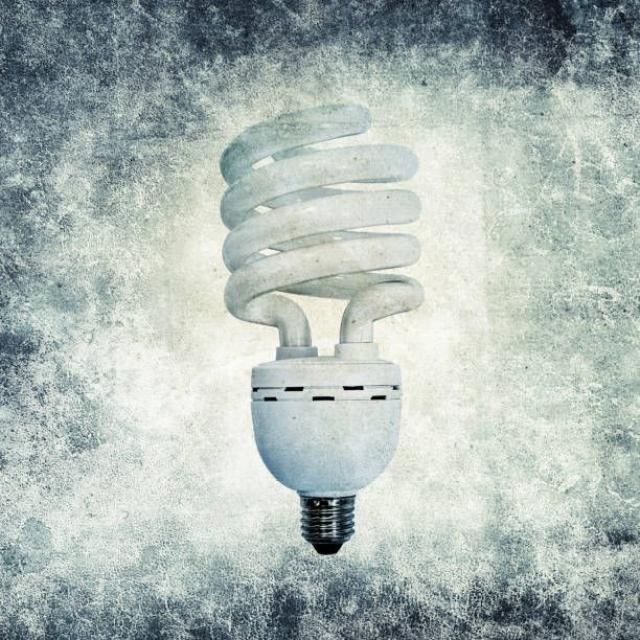electronic: (218, 100, 424, 554), (248, 345, 404, 554)
